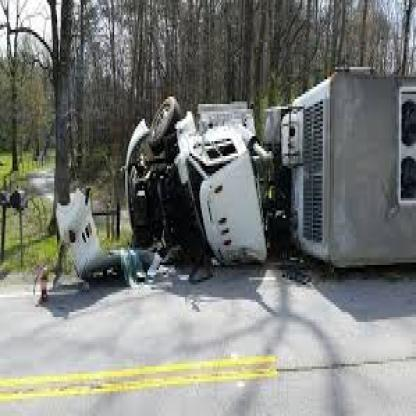accident: (41, 60, 408, 348)
